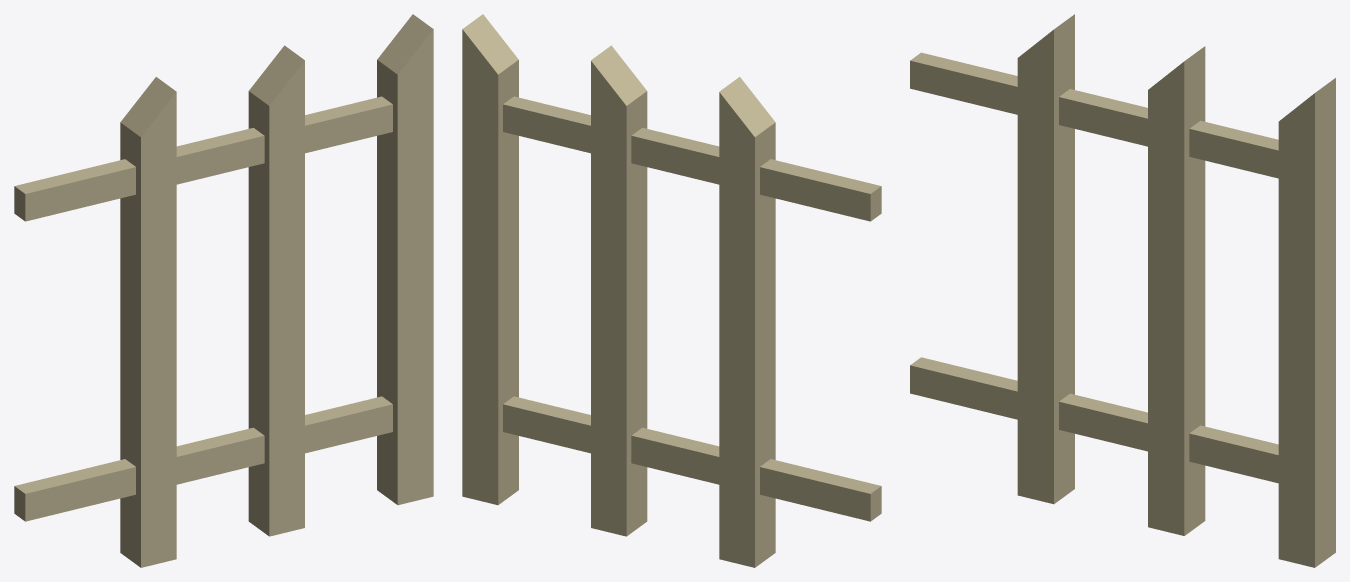
File: sm_fence.fbx
3 renders of one model, left to right at view 1: azimuth 30°, elevation 25°; view 2: azimuth 150°, elevation 25°; view 3: azimuth 330°, elevation 25°, orthographic.
Visible parts, largest first — view 1: sm_fence; view 2: sm_fence; view 3: sm_fence.
Boxes of the visible parts, x1=… form: sm_fence: x1=14, y1=14, x2=433, y2=567; sm_fence: x1=462, y1=14, x2=881, y2=567; sm_fence: x1=910, y1=14, x2=1335, y2=567.
Size of the model in its own units: 105 by 116 by 9.28.
